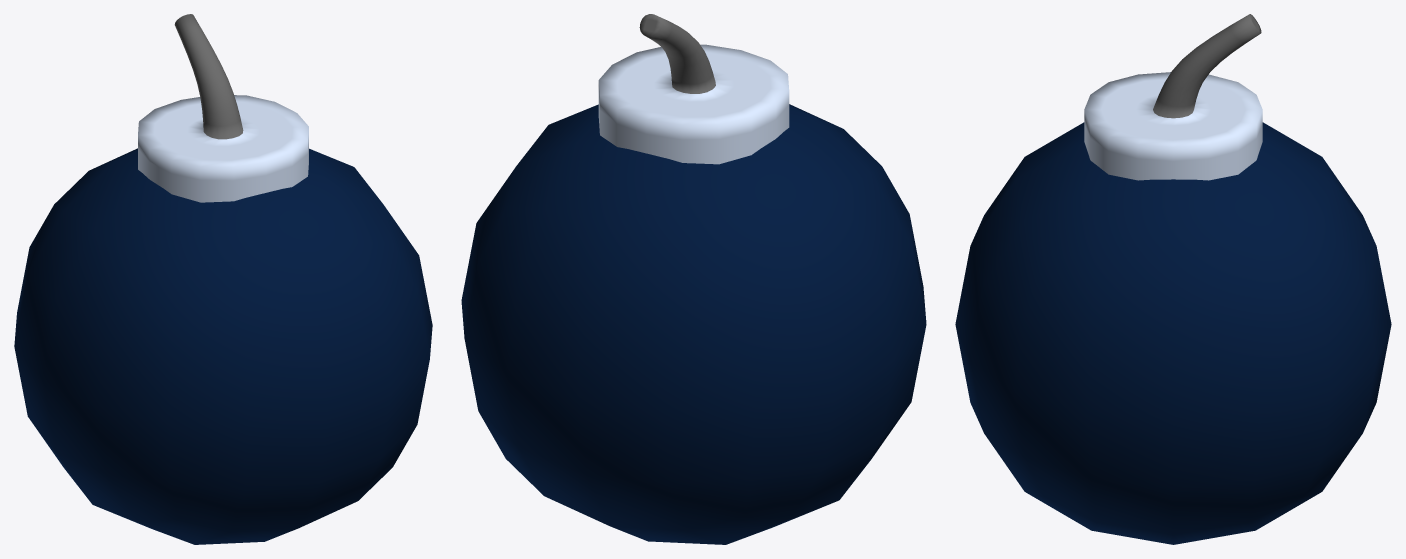
File: bomb.obj
3 renders of one model, left to right at view 1: azimuth 30°, elevation 25°; view 2: azimuth 150°, elevation 25°; view 3: azimuth 270°, elevation 25°, orthographic. The views are drawn at different scales.
Visible parts, largest first — view 1: Cube; view 2: Cube; view 3: Cube.
Boxes of the visible parts, <box> form: Cube: <box>14,14,432,544</box>; Cube: <box>461,14,926,544</box>; Cube: <box>955,14,1391,544</box>.
Bounding box in the file's own units: 1.68 × 2.15 × 1.68.
